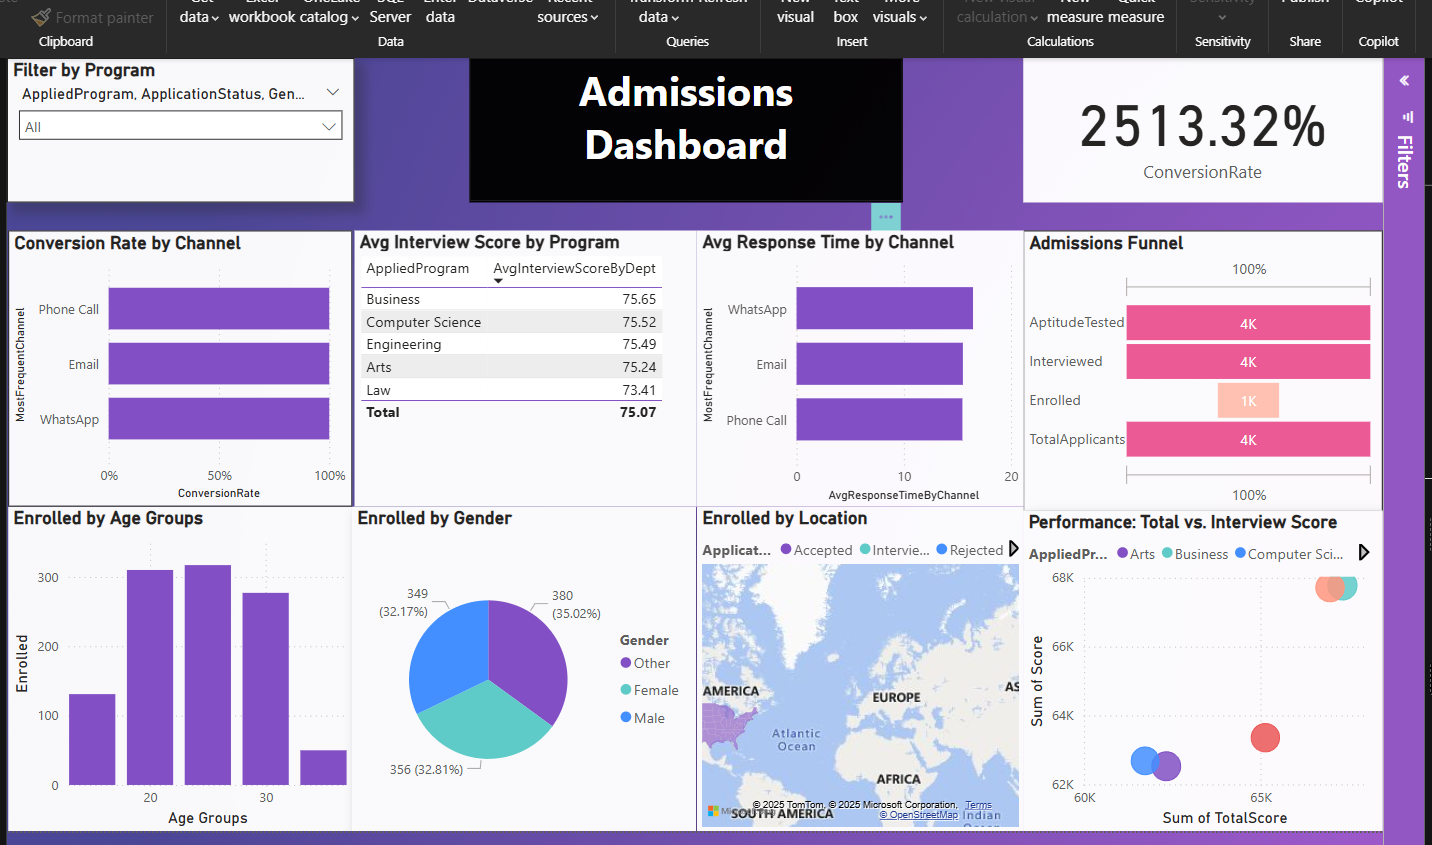

This screenshot's page, from the dashboard's own definition file:
{"tool":"powerbi","page":{"name":"Admissions Dashboard","canvas":[1280,720],"ordinal":0},"visuals":[{"type":"funnel","title":"Admissions Funnel","fields":{"Y":["merged_data_final.AptitudeTested","merged_data_final.Interviewed","merged_data_final.Enrolled","merged_data_final.TotalApplicants"]},"box":[945.7,160,334.3,261.4],"z":0},{"type":"clusteredColumnChart","fields":{"Y":["merged_data_final.Enrolled"],"Category":["merged_data_final.Age Groups"]},"box":[1.4,417.1,320,302.9],"z":1000},{"type":"pieChart","fields":{"Category":["merged_data_final.Gender"],"Y":["merged_data_final.Enrolled"]},"box":[321.4,417.1,320,302.9],"z":2000},{"type":"scatterChart","title":"Performance: Total vs. Interview Score","fields":{"X":["Sum(merged_data_final.TotalScore)"],"Y":["Sum(merged_data_final.Score)"],"Size":["merged_data_final.Enrolled"],"Series":["merged_data_final.AppliedProgram"]},"box":[945.7,421.4,334.3,298.6],"z":3000},{"type":"filledMap","title":"Enrolled by Location","fields":{"Category":["merged_data_final.State"],"Series":["merged_data_final.ApplicationStatus"]},"box":[641.4,417.1,304.3,302.9],"z":4000},{"type":"hundredPercentStackedBarChart","title":"Conversion Rate by Channel","fields":{"Y":["merged_data_final.ConversionRate"],"Category":["merged_data_final.MostFrequentChannel"]},"box":[1.4,160,320,257.1],"z":5000},{"type":"slicer","title":"Filter by Program","fields":{"Values":["merged_data_final.AppliedProgram","merged_data_final.ApplicationStatus","merged_data_final.Gender","merged_data_final.Age"]},"box":[0,0,322.9,134.3],"z":6000},{"type":"textbox","box":[430,0,402.9,134.3],"z":7000},{"type":"tableEx","title":"Avg Interview Score by Program","fields":{"Values":["merged_data_final.AppliedProgram","merged_data_final.AvgInterviewScoreByDept"]},"box":[322.9,160,318.6,257.1],"z":8000},{"type":"card","fields":{"Values":["merged_data_final.ConversionRate"]},"box":[945.7,0,334.3,134.3],"z":9000},{"type":"barChart","title":"Avg Response Time by Channel","fields":{"Category":["merged_data_final.MostFrequentChannel"],"Y":["merged_data_final.AvgResponseTimeByChannel"]},"box":[641.4,160,304.3,257.1],"z":10000}]}

Visuals, with their boxes on the page's 1280x720 design canvas (x1, y1, x2, y2). These are canvas units, not pixel positions in the 1432x845 screenshot, which may show the page scaled, cropped or inside an application window:
"Admissions Funnel" funnel: <bbox>946, 160, 1280, 421</bbox>
clusteredColumnChart - merged_data_final.Enrolled x merged_data_final.Age Groups: <bbox>1, 417, 321, 720</bbox>
pieChart - merged_data_final.Gender x merged_data_final.Enrolled: <bbox>321, 417, 641, 720</bbox>
"Performance: Total vs. Interview Score" scatterChart: <bbox>946, 421, 1280, 720</bbox>
"Enrolled by Location" filledMap: <bbox>641, 417, 946, 720</bbox>
"Conversion Rate by Channel" hundredPercentStackedBarChart: <bbox>1, 160, 321, 417</bbox>
"Filter by Program" slicer: <bbox>0, 0, 323, 134</bbox>
textbox: <bbox>430, 0, 833, 134</bbox>
"Avg Interview Score by Program" tableEx: <bbox>323, 160, 642, 417</bbox>
card - merged_data_final.ConversionRate: <bbox>946, 0, 1280, 134</bbox>
"Avg Response Time by Channel" barChart: <bbox>641, 160, 946, 417</bbox>
